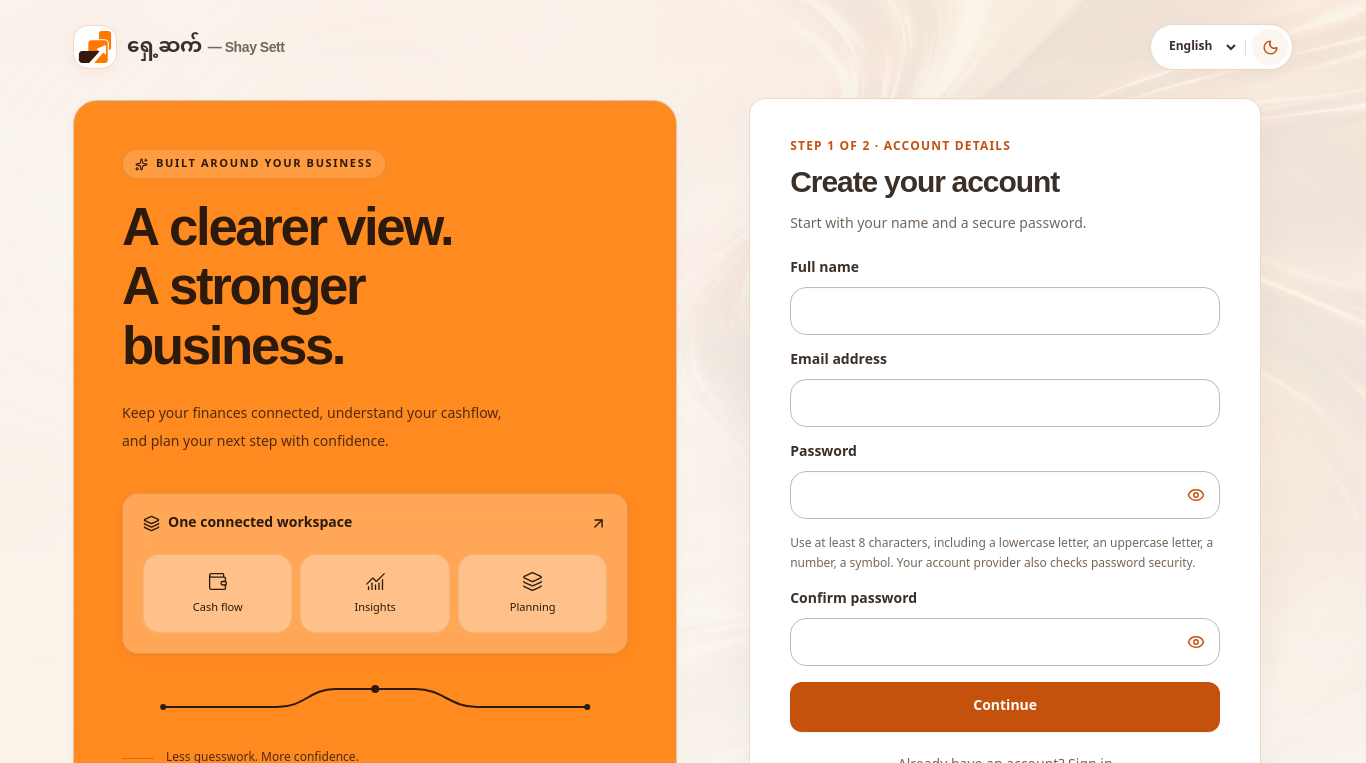
Test: Account UI › rejects weak character combinations before sending signup
Type "Owner" into the field labelled "Full name".
click(1005, 311); type("Owner")  # box [790,287,1220,335]
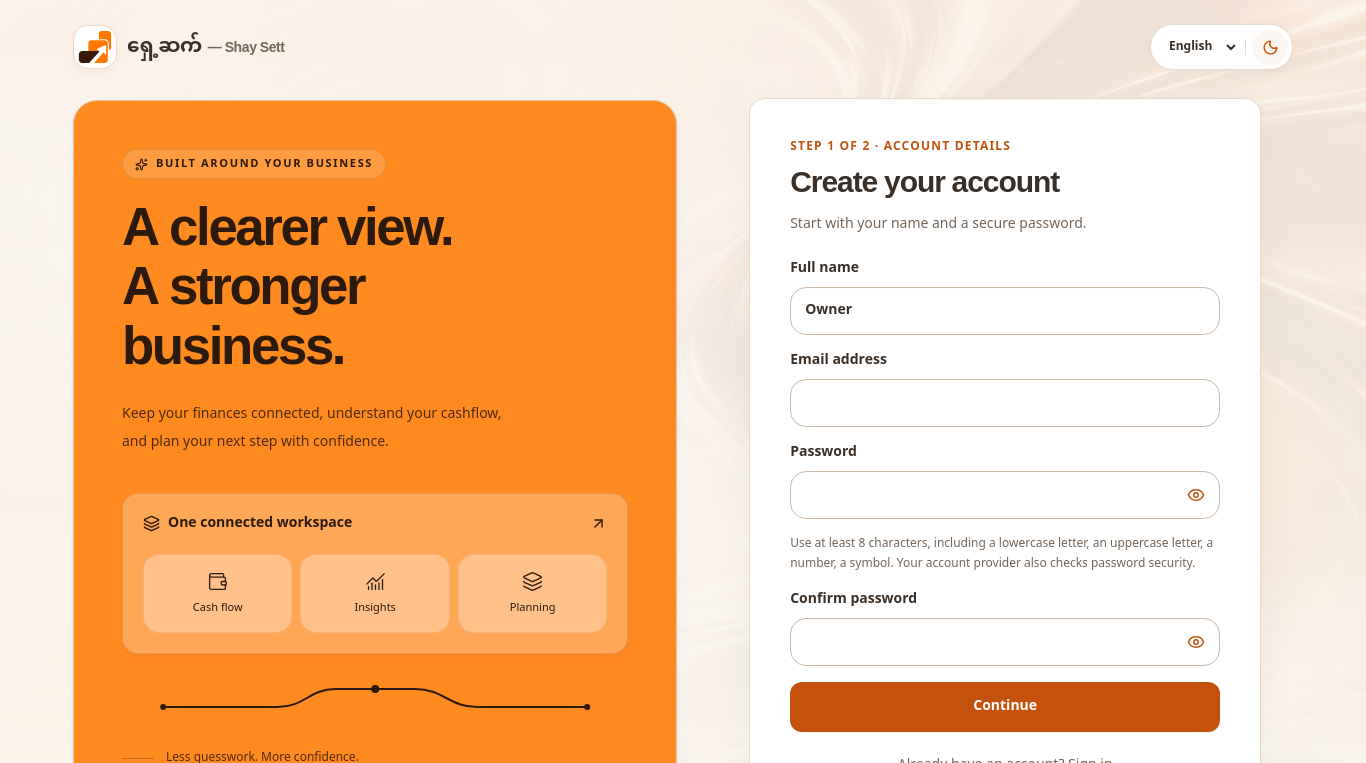
Type "owner@example.test" into the field labelled "Email address".
click(1005, 403); type("owner@example.test")  # box [790,379,1220,427]
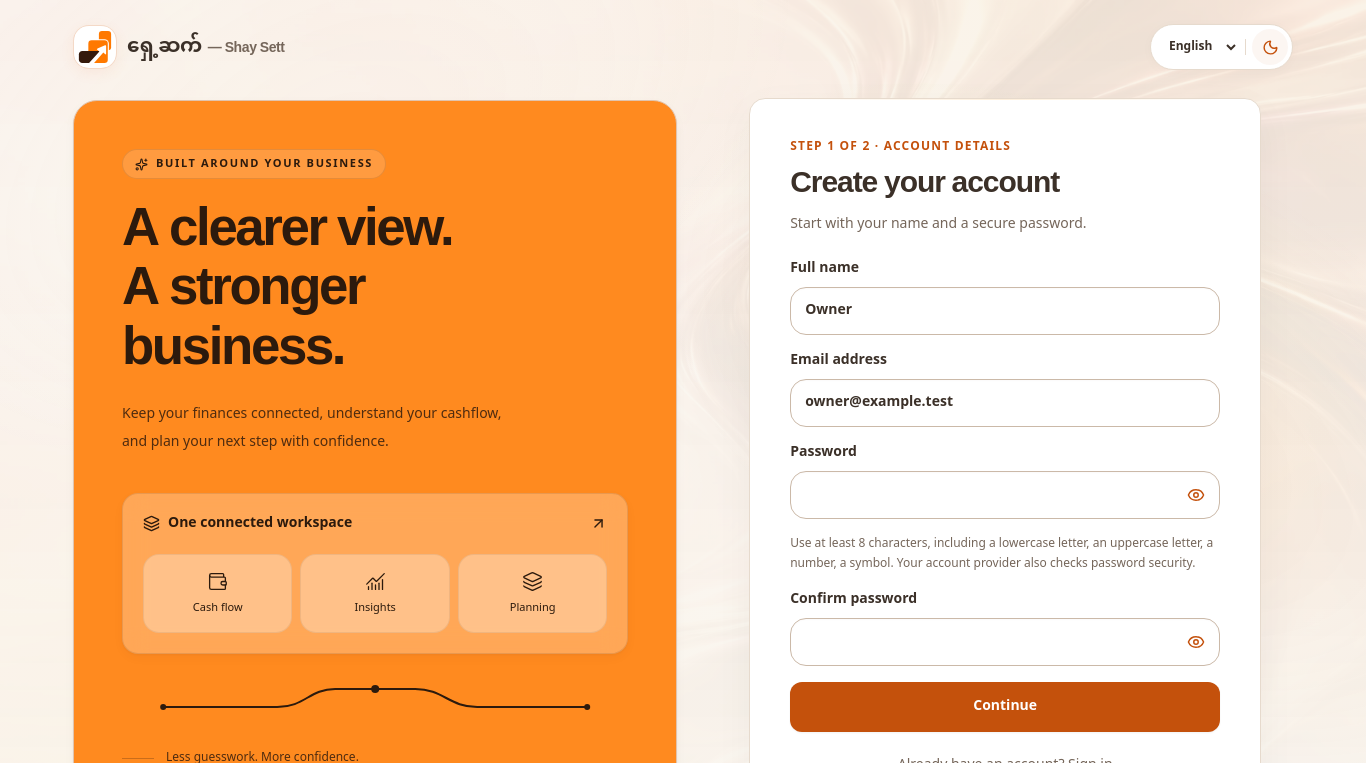
Type "weakpassword" into the password field labelled "Password".
click(1005, 495); type("weakpassword")  # box [790,471,1220,519]
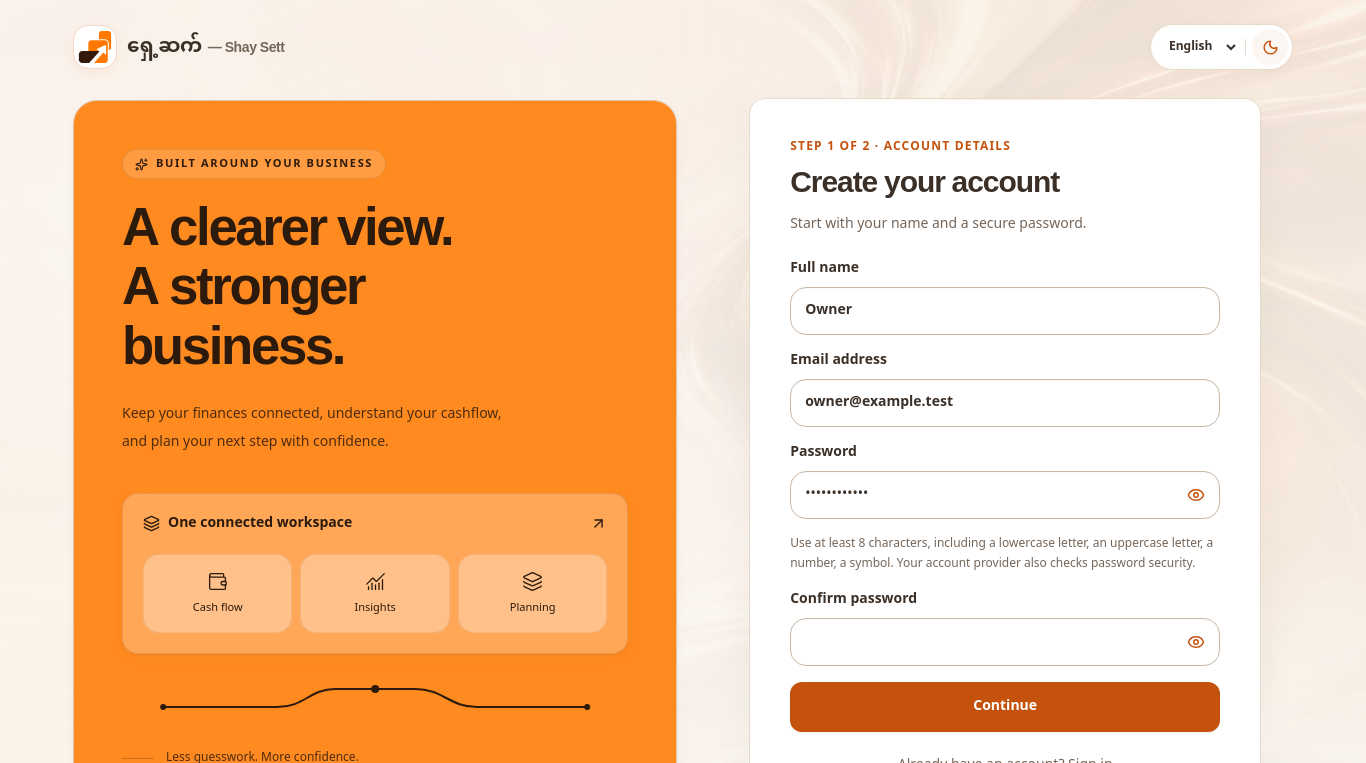
Type "weakpassword" into the password field labelled "Confirm password".
click(1005, 642); type("weakpassword")  # box [790,618,1220,666]
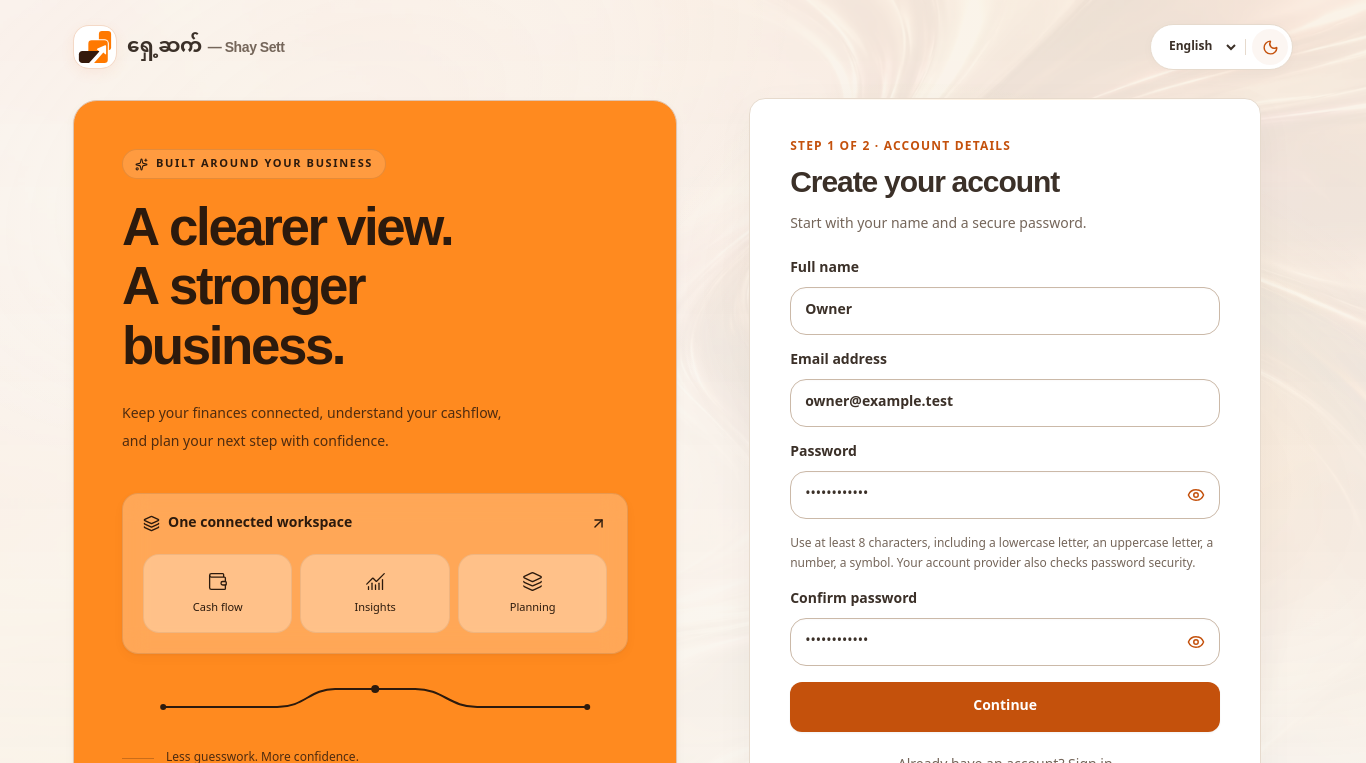
Click the button "Continue".
click(1005, 707)  # box [790,682,1220,732]
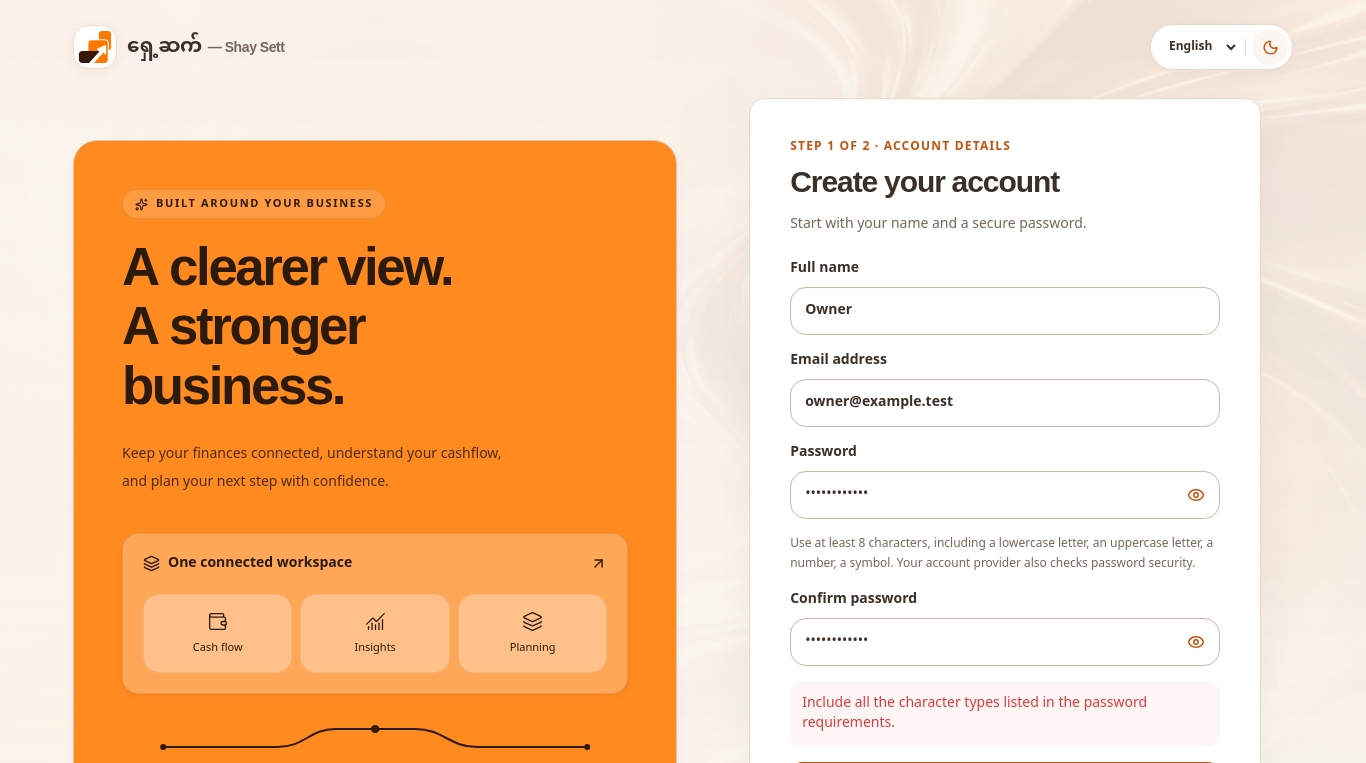
Expected: the message shows "character types", [802,688,1147,739]
